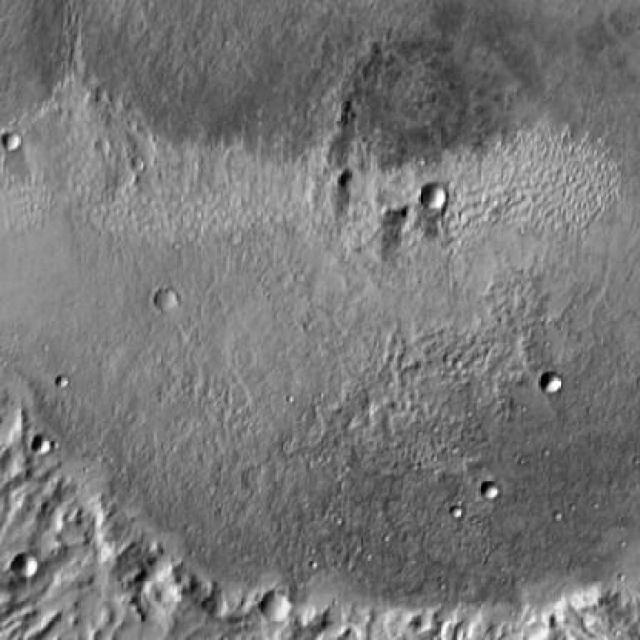crater: (0, 0, 640, 640), (259, 592, 290, 622), (14, 552, 41, 580), (422, 184, 450, 210), (153, 288, 176, 310), (0, 132, 23, 153), (540, 372, 560, 392), (30, 436, 50, 456)
